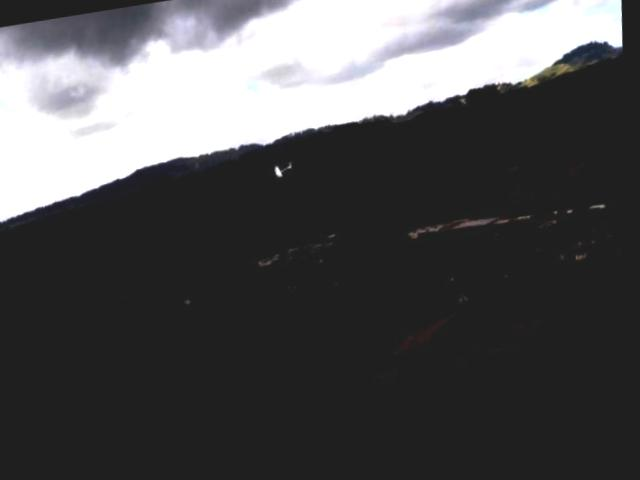iha: (269, 164, 296, 186)
